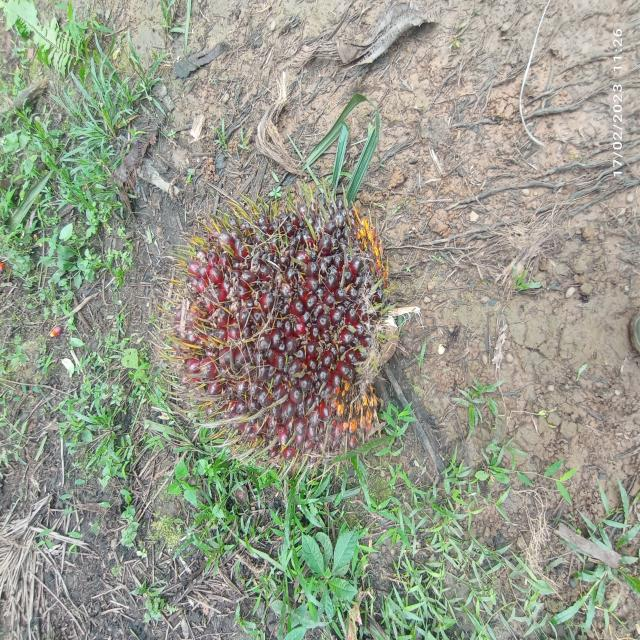fraksi 1: (142, 166, 434, 497)
